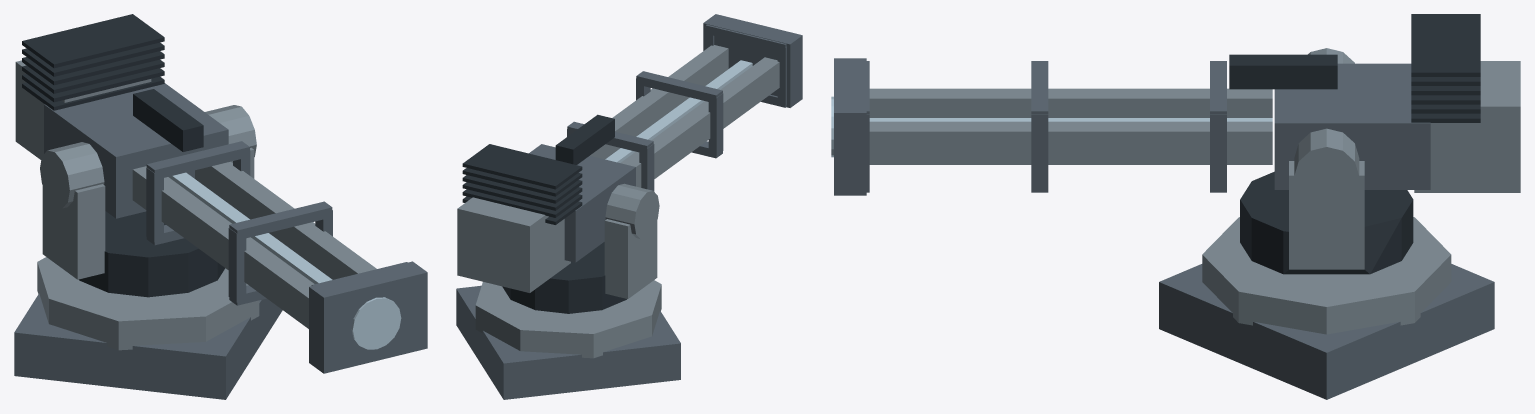
The model's file is lancer_t2_d0.meshopt.glb.
The picture shows the model from 3 angles, left to right: view 1: azimuth 30°, elevation 25°; view 2: azimuth 150°, elevation 25°; view 3: azimuth 270°, elevation 25°; orthographic projection. The views are drawn at different scales.
Parts seen in each view (by area): view 1: ROOT_ARMOR_GEOMETRY; view 2: ROOT_ARMOR_GEOMETRY; view 3: ROOT_ARMOR_GEOMETRY.
Boxes of the visible parts, bbox=[...] form: ROOT_ARMOR_GEOMETRY: bbox=[14, 14, 427, 399]; ROOT_ARMOR_GEOMETRY: bbox=[456, 14, 802, 399]; ROOT_ARMOR_GEOMETRY: bbox=[831, 14, 1520, 399].
Bounding box in the file's own units: 1.55 × 1.46 × 3.18.
